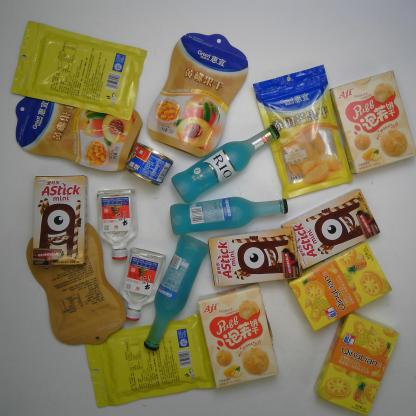Alcohol: (172, 122, 280, 203), (142, 235, 210, 351), (166, 196, 290, 236), (121, 248, 166, 322), (96, 187, 138, 263)
Canned Food: (126, 142, 176, 188)
Dessert: (289, 240, 394, 333), (328, 70, 416, 176), (196, 284, 281, 391), (314, 312, 400, 415), (280, 187, 382, 271), (205, 226, 304, 288), (32, 177, 90, 268)
Dried Fruit: (11, 17, 150, 125), (253, 65, 356, 199), (147, 32, 250, 162), (82, 312, 217, 409), (24, 222, 128, 346), (15, 96, 143, 174)
